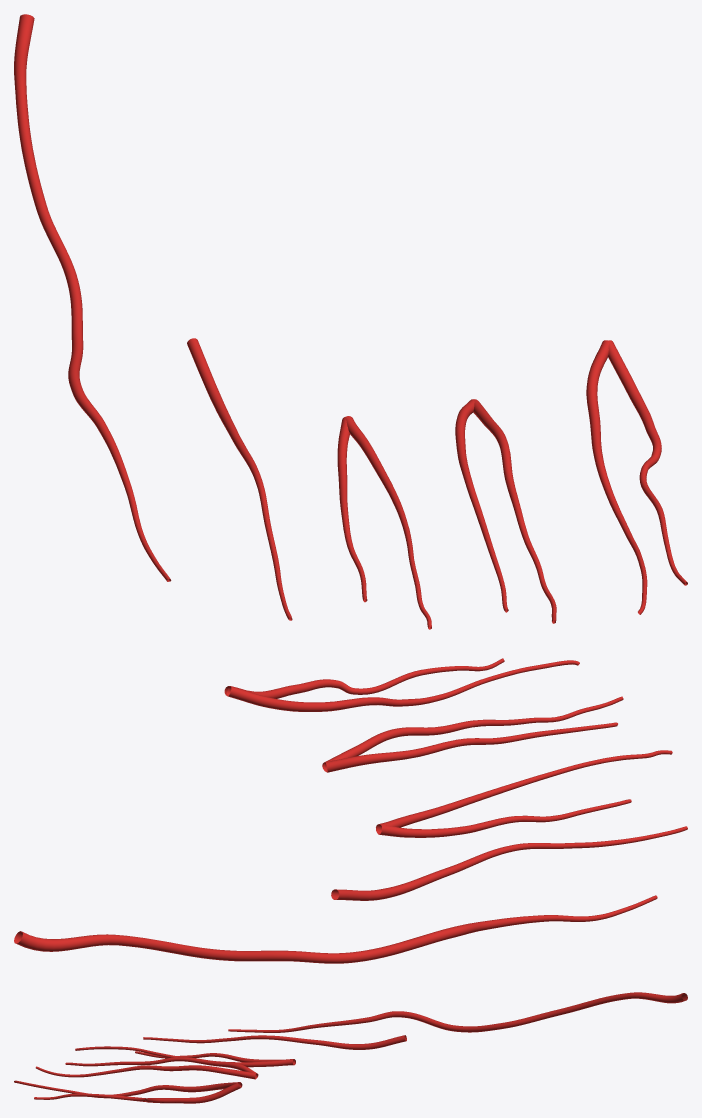
File: circulatorio-dorsal-digital-arteries-of-foot-r.glb
3 views of the same model, one above another, from view 1: azimuth 30°, elevation 25°; view 2: azimuth 150°, elevation 25°; view 3: azimuth 270°, elevation 25° (orthographic). The views are drawn at different scales.
Visible parts, largest first — view 1: Dorsal digital arteries of foot.r; view 2: Dorsal digital arteries of foot.r; view 3: Dorsal digital arteries of foot.r.
Part boxes in pixels (left/top/right/bottom): Dorsal digital arteries of foot.r: left=14, top=14, right=687, bottom=629; Dorsal digital arteries of foot.r: left=14, top=658, right=687, bottom=963; Dorsal digital arteries of foot.r: left=14, top=992, right=687, bottom=1103.
Bounding box in the file's own units: 0.063 × 0.0265 × 0.1464.
